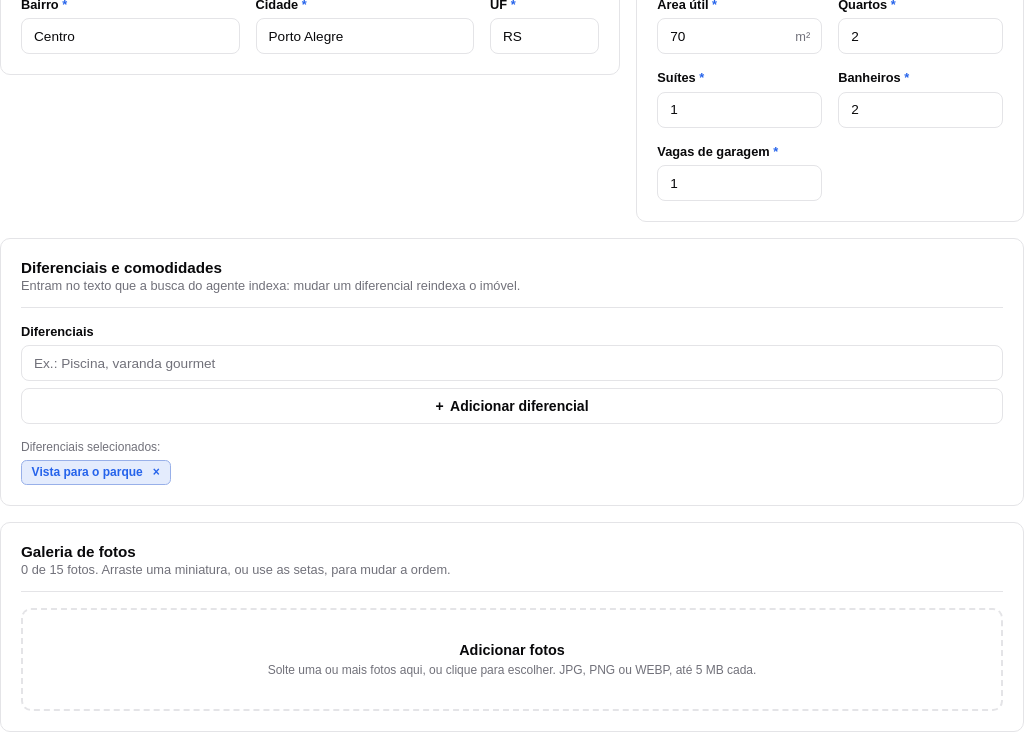
Test: EdicaoDeImovel (TEC-400) › alterar o diferencial reindexa (D3, cenario 2 do Gherkin da TEC-333) › manda so as caracteristicas e mostra "reindexa"
This screenshot has width=1024, height=745.
(page scrolled)
Click the button named "Remover Vista para o parque": (156, 472) [148,464,165,481]
(page scrolled)
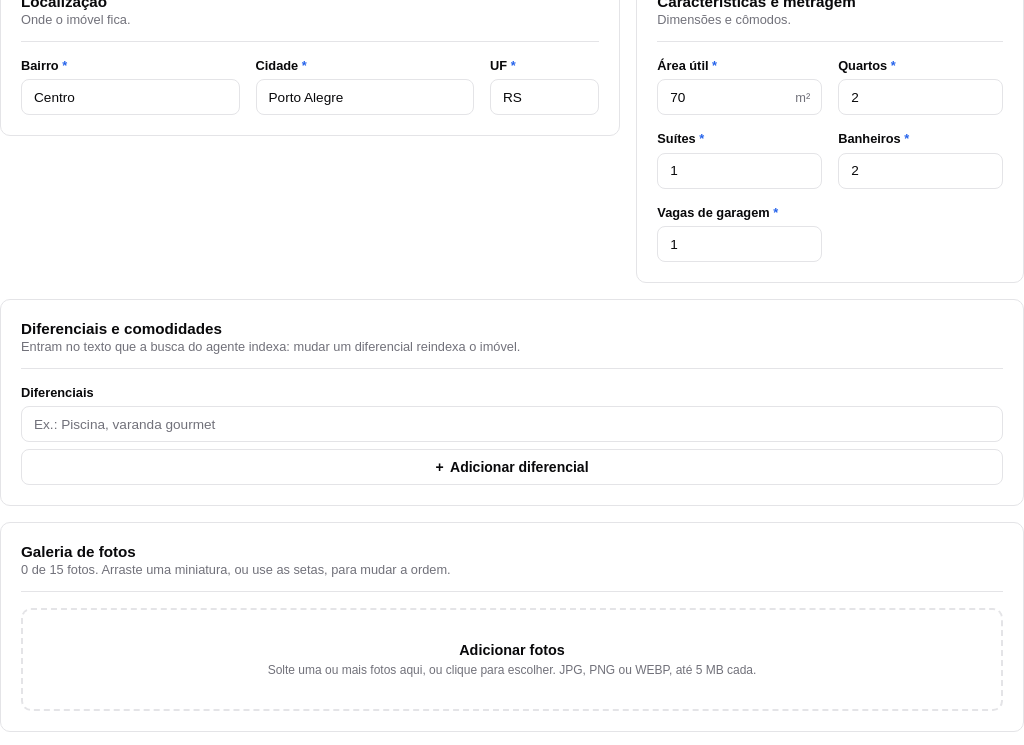
In the field labelled "Diferenciais": (512, 424) [21,406,1003,442], type "Vista para o mar"
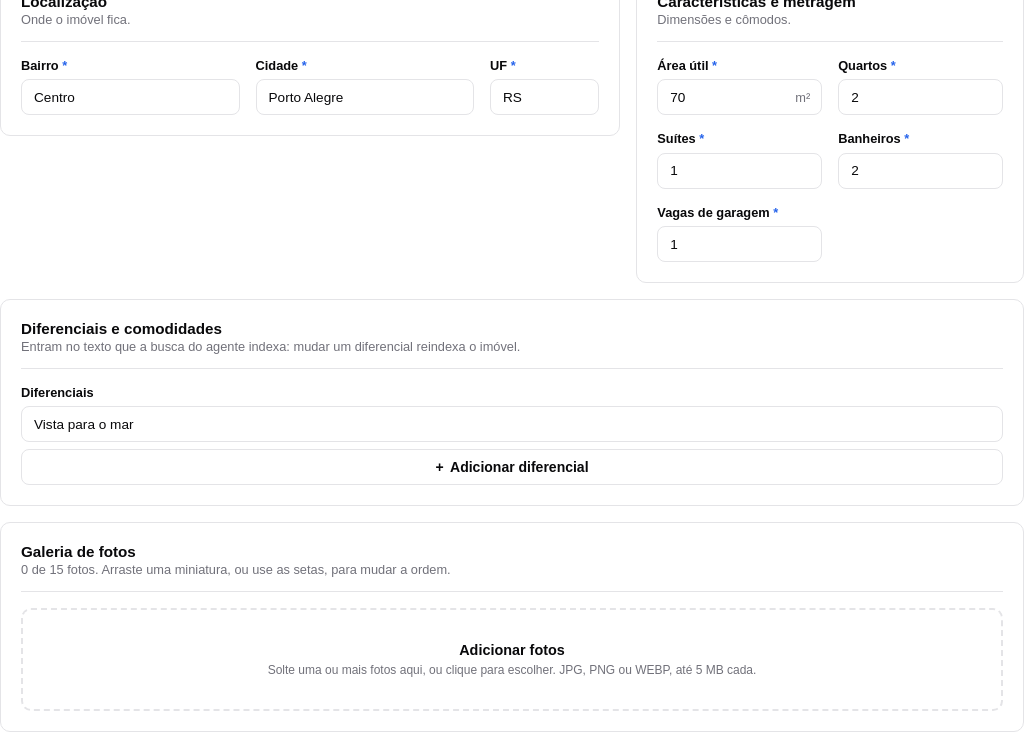
Click the button "+ Adicionar diferencial": (512, 467) [21,449,1003,485]
(page scrolled)
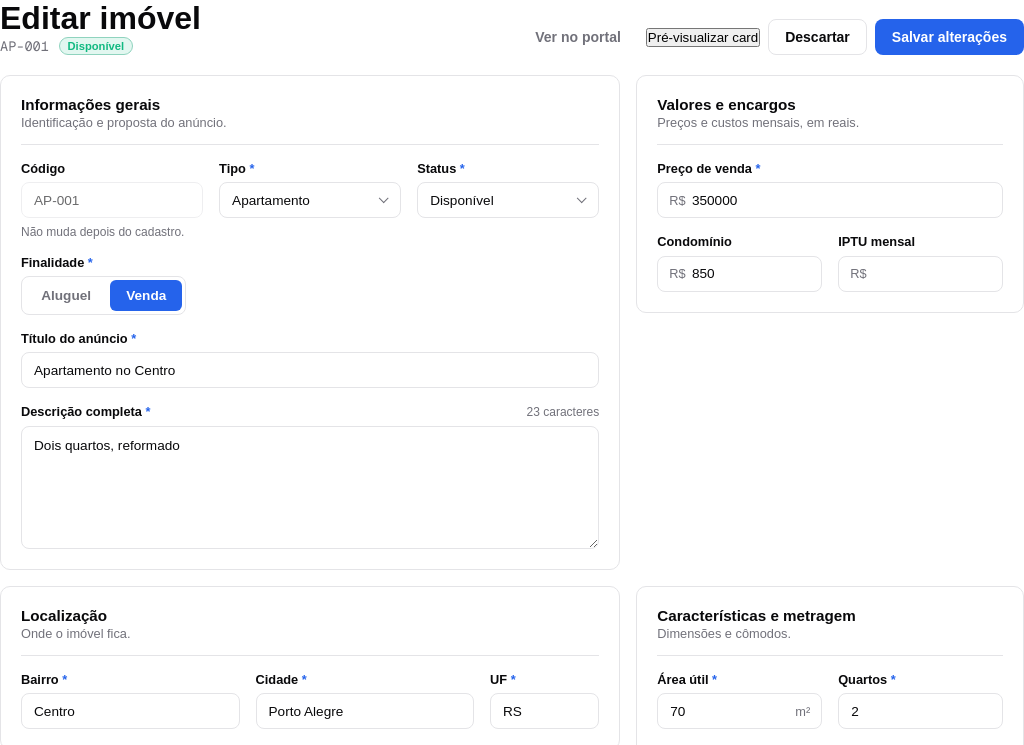
Click the button "Salvar alterações": (949, 37) [875,19,1023,55]
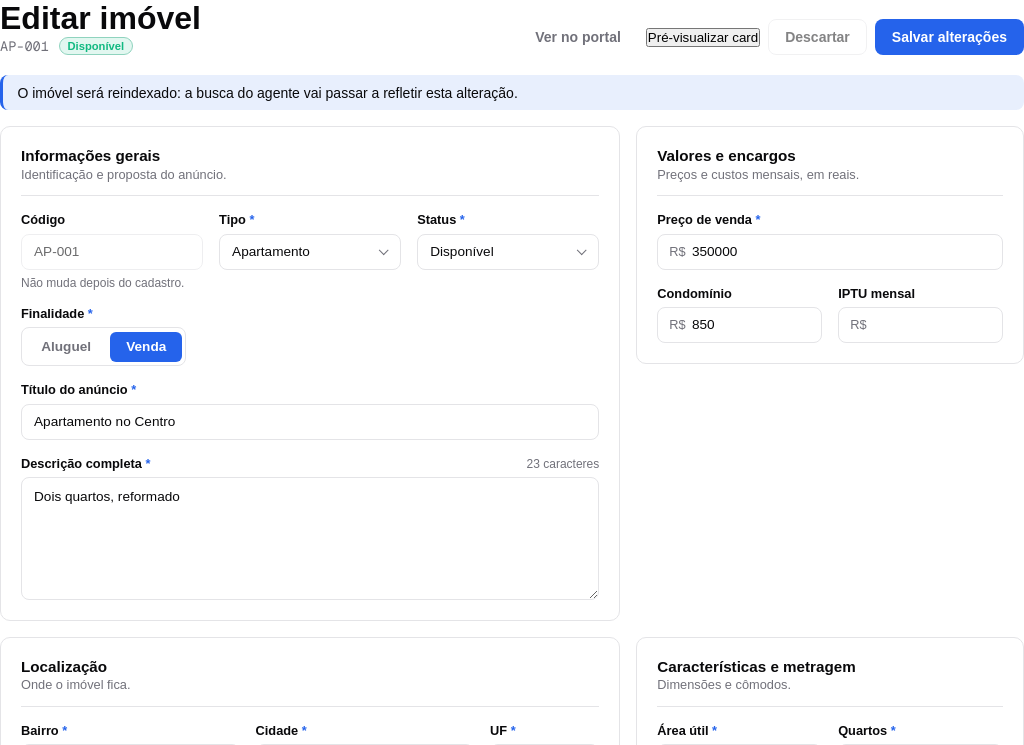
Expected: the message shows "será reindexado", [17,85,518,101]
